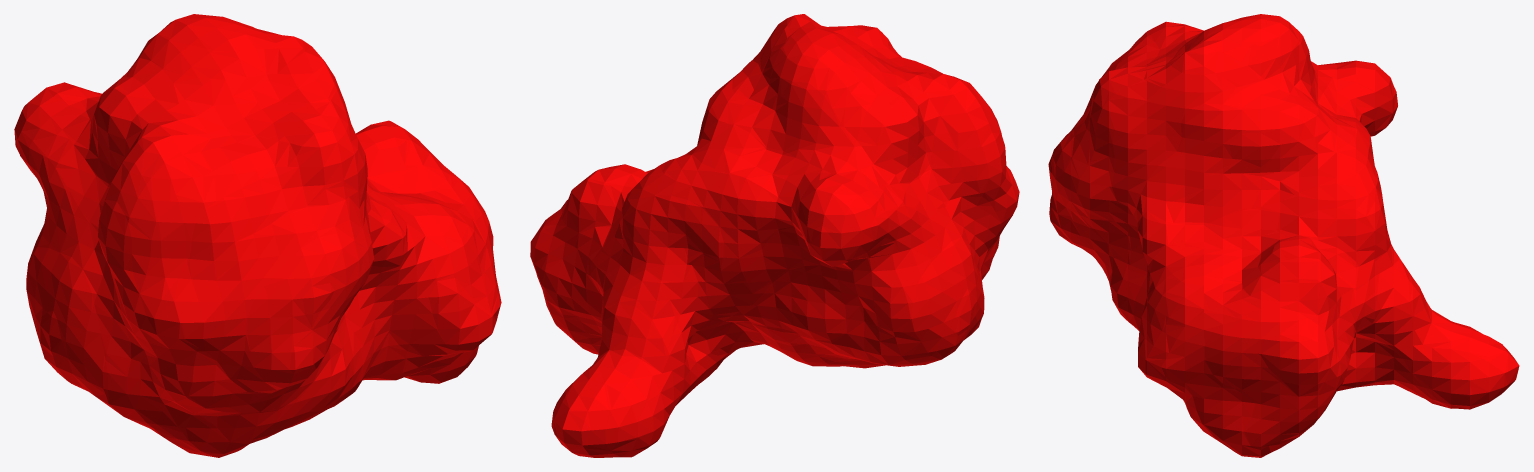
Rendered from codA_coarse.dae.
3 renders of one model, left to right at view 1: azimuth 30°, elevation 25°; view 2: azimuth 150°, elevation 25°; view 3: azimuth 270°, elevation 25°, orthographic. The views are drawn at different scales.
Parts seen in each view (by area): view 1: codA; view 2: codA; view 3: codA.
Part boxes in pixels (left/top/right/bottom): codA: left=14, top=14, right=501, bottom=457; codA: left=530, top=14, right=1019, bottom=457; codA: left=1048, top=14, right=1519, bottom=457.
Size of the model in its own units: 67.41 by 58.09 by 72.36.
